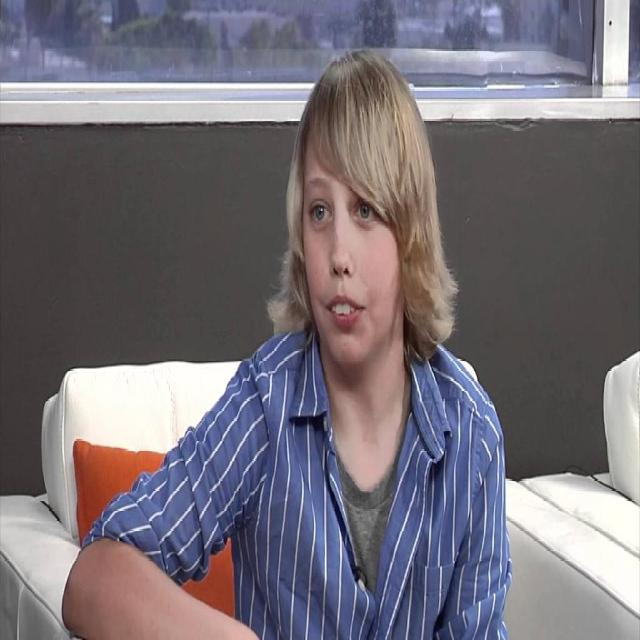Face: (295, 152, 405, 364)
